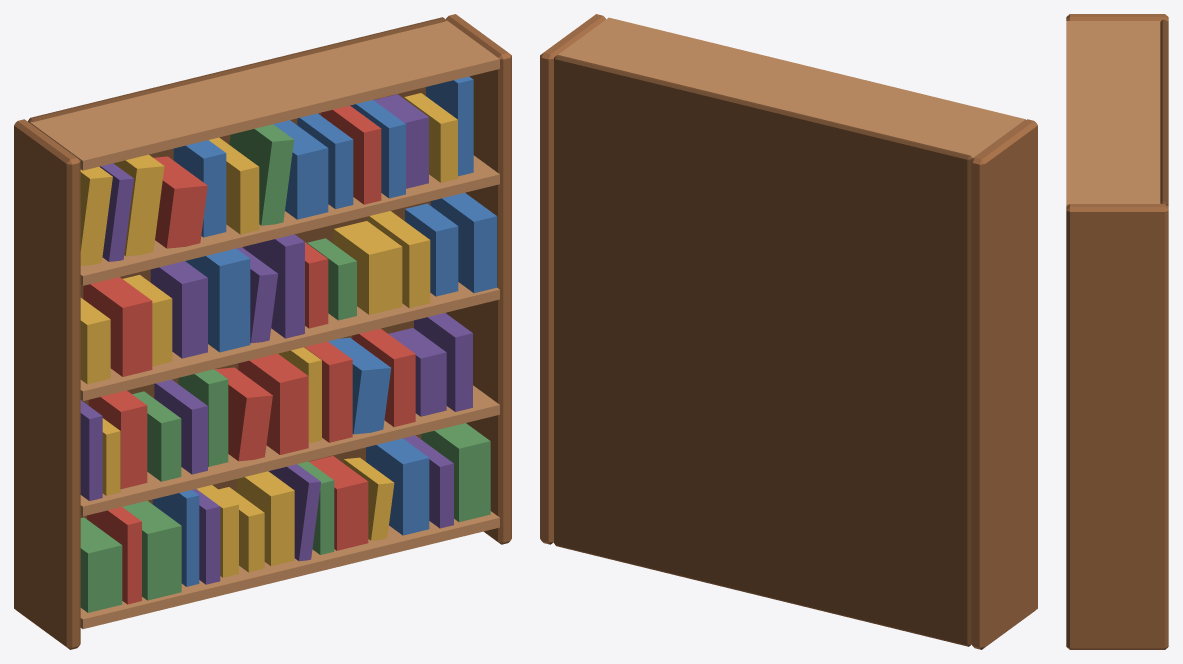
File: shelf.glb
3 views of the same model, side by side, from view 1: azimuth 30°, elevation 25°; view 2: azimuth 150°, elevation 25°; view 3: azimuth 270°, elevation 25° (orthographic). The views are drawn at different scales.
Parts seen in each view (by area): view 1: shelf; view 2: shelf; view 3: shelf.
Part boxes in pixels (x1,y1,x2,y2): shelf: (14,14,511,649); shelf: (540,14,1037,649); shelf: (1066,14,1168,649).
Size of the model in its own units: 1.9 by 2 by 0.42.
